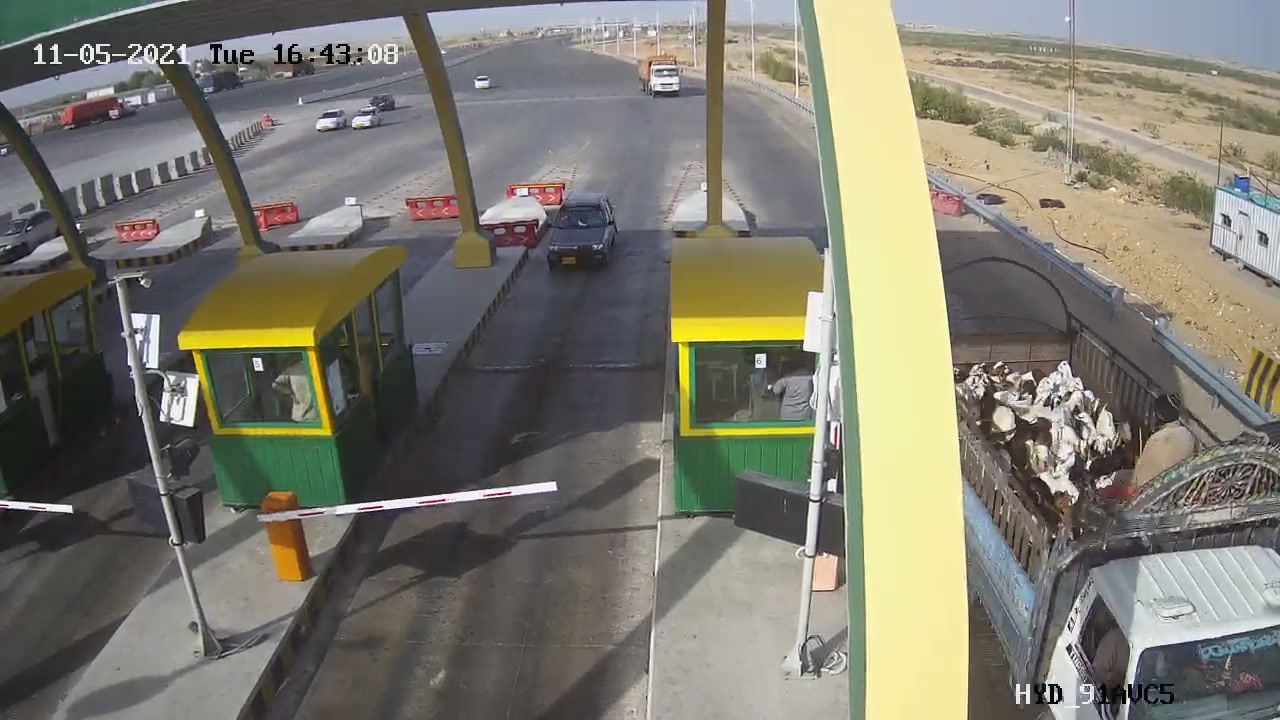F1: (524, 181, 637, 284)
